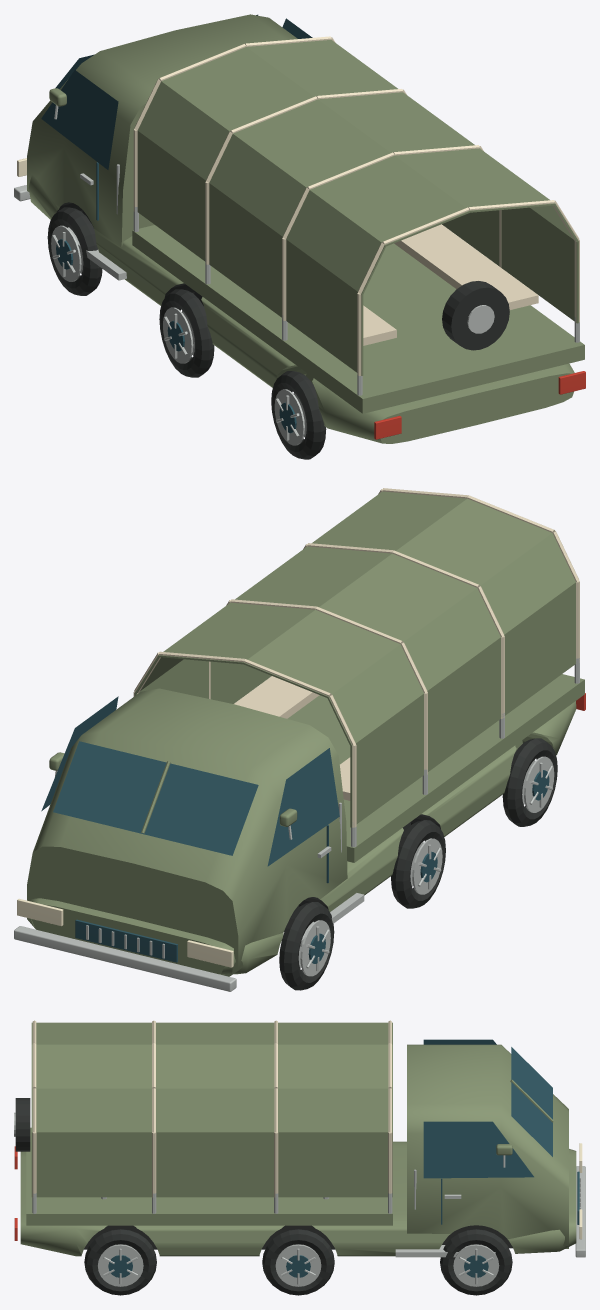
The model's file is military_detail.glb.
The picture shows the model from 3 angles, top to bottom: view 1: azimuth 30°, elevation 25°; view 2: azimuth 150°, elevation 25°; view 3: azimuth 270°, elevation 25°; orthographic projection. The views are drawn at different scales.
Visible parts, largest first — view 1: MilitaryModel traffic_olive, MilitaryModel traffic_cream, MilitaryModel traffic_glass, Rear mounted spare, Rounded road tire.001, MilitaryModel traffic_metal, Rounded road tire, Rounded road tire.002, Spin.001 traffic_metal, Spin traffic_metal, Spin.002 traffic_metal, MilitaryModel traffic_red; view 2: MilitaryModel traffic_olive, MilitaryModel traffic_glass, MilitaryModel traffic_cream, MilitaryModel traffic_metal, Rounded road tire.002, Rounded road tire.001, Rounded road tire, MilitaryModel traffic_light, Spin.001 traffic_metal, Spin traffic_metal, Spin.002 traffic_metal; view 3: MilitaryModel traffic_olive, MilitaryModel traffic_glass, MilitaryModel traffic_cream, Rounded road tire.003, Rounded road tire.004, Rounded road tire.005, MilitaryModel traffic_metal, Spin.003 traffic_metal, Spin.004 traffic_metal, Spin.005 traffic_metal, Rear mounted spare, Spin.004 traffic_glass (+2 smaller).
Boxes of the visible parts, x1=… form: MilitaryModel traffic_olive: x1=27, y1=14, x2=584, y2=443; MilitaryModel traffic_cream: x1=133, y1=36, x2=579, y2=375; MilitaryModel traffic_glass: x1=41, y1=14, x2=312, y2=220; Rear mounted spare: x1=442, y1=281, x2=509, y2=350; Rounded road tire.001: x1=159, y1=289, x2=214, y2=377; MilitaryModel traffic_metal: x1=14, y1=105, x2=579, y2=395; Rounded road tire: x1=271, y1=371, x2=326, y2=459; Rounded road tire.002: x1=47, y1=207, x2=102, y2=295; Spin.001 traffic_metal: x1=163, y1=307, x2=194, y2=363; Spin traffic_metal: x1=274, y1=389, x2=306, y2=445; Spin.002 traffic_metal: x1=51, y1=225, x2=83, y2=281; MilitaryModel traffic_red: x1=374, y1=371, x2=585, y2=439; MilitaryModel traffic_olive: x1=27, y1=491, x2=584, y2=976; MilitaryModel traffic_glass: x1=41, y1=696, x2=339, y2=962; MilitaryModel traffic_cream: x1=133, y1=488, x2=579, y2=827; MilitaryModel traffic_metal: x1=14, y1=658, x2=579, y2=991; Rounded road tire.002: x1=279, y1=902, x2=334, y2=990; Rounded road tire.001: x1=391, y1=820, x2=445, y2=908; Rounded road tire: x1=502, y1=738, x2=557, y2=826; MilitaryModel traffic_light: x1=17, y1=898, x2=233, y2=967; Spin.001 traffic_metal: x1=410, y1=838, x2=442, y2=894; Spin traffic_metal: x1=522, y1=756, x2=554, y2=812; Spin.002 traffic_metal: x1=298, y1=920, x2=330, y2=976; MilitaryModel traffic_olive: x1=20, y1=1022, x2=576, y2=1256; MilitaryModel traffic_glass: x1=423, y1=1039, x2=579, y2=1224; MilitaryModel traffic_cream: x1=32, y1=1020, x2=392, y2=1197; Rounded road tire.003: x1=84, y1=1229, x2=156, y2=1295; Rounded road tire.004: x1=262, y1=1229, x2=334, y2=1295; Rounded road tire.005: x1=440, y1=1229, x2=512, y2=1295; MilitaryModel traffic_metal: x1=14, y1=1112, x2=585, y2=1257; Spin.003 traffic_metal: x1=97, y1=1244, x2=143, y2=1286; Spin.004 traffic_metal: x1=275, y1=1244, x2=321, y2=1286; Spin.005 traffic_metal: x1=453, y1=1244, x2=499, y2=1286; Rear mounted spare: x1=15, y1=1098, x2=30, y2=1151; Spin.004 traffic_glass: x1=286, y1=1255, x2=310, y2=1277.
Size of the model in its own units: 2.5 by 2.43 by 6.07.
